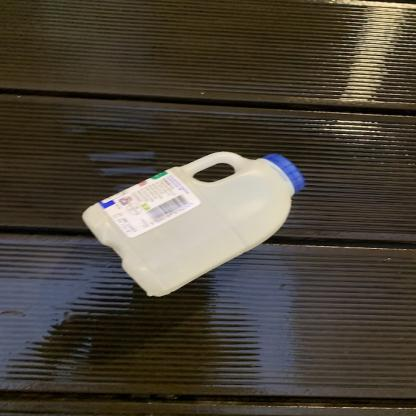trash: (79, 150, 307, 295)
